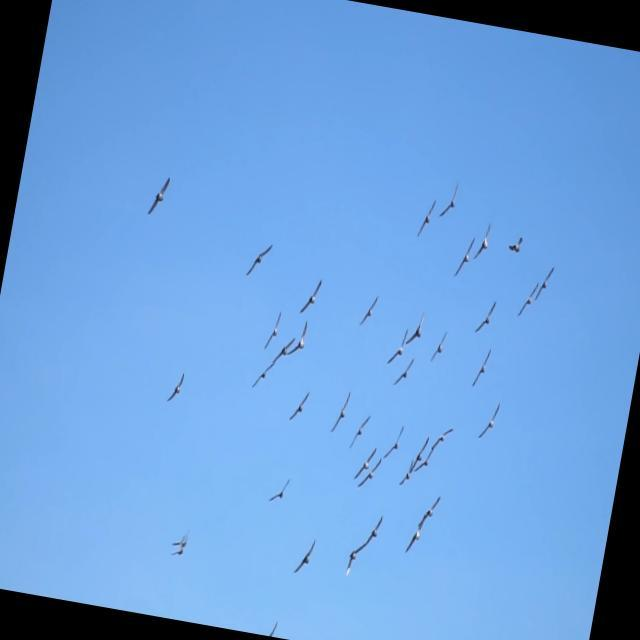bird: (143, 175, 171, 222), (476, 397, 503, 445), (244, 238, 274, 281), (406, 424, 431, 475), (413, 195, 439, 242), (328, 386, 352, 436), (452, 231, 476, 280), (356, 451, 384, 493), (384, 323, 410, 368), (469, 344, 493, 391), (293, 533, 318, 578), (352, 441, 377, 485), (348, 408, 372, 453), (298, 275, 323, 318), (382, 420, 407, 463), (515, 277, 539, 321), (474, 294, 498, 338), (288, 317, 310, 363), (343, 539, 367, 581), (438, 177, 461, 220), (472, 219, 494, 263), (403, 515, 426, 557), (392, 352, 416, 391), (534, 264, 556, 306), (404, 308, 427, 348), (356, 291, 380, 328), (288, 386, 311, 423), (250, 359, 275, 393), (428, 325, 449, 365), (263, 308, 282, 352), (362, 512, 385, 548), (267, 473, 292, 506), (165, 368, 186, 406), (272, 333, 296, 365), (429, 424, 454, 453), (417, 446, 437, 480), (420, 491, 440, 523), (398, 456, 414, 488), (505, 231, 525, 256), (171, 530, 189, 550), (168, 539, 186, 559)
